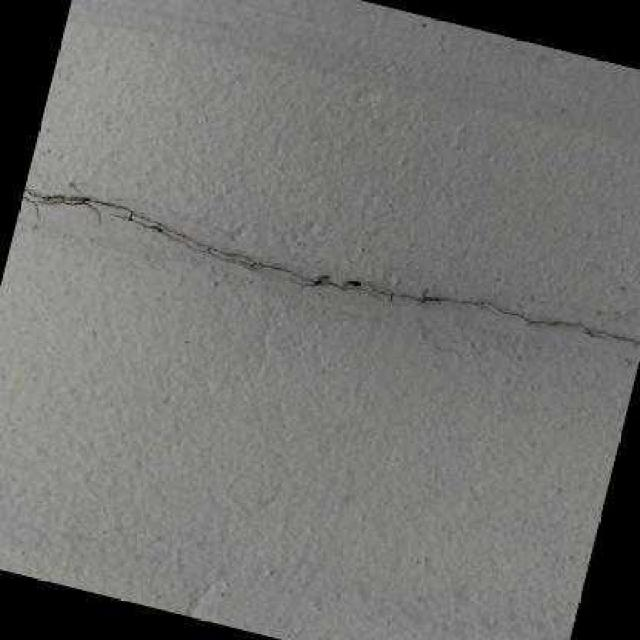D00: (20, 188, 640, 347)
